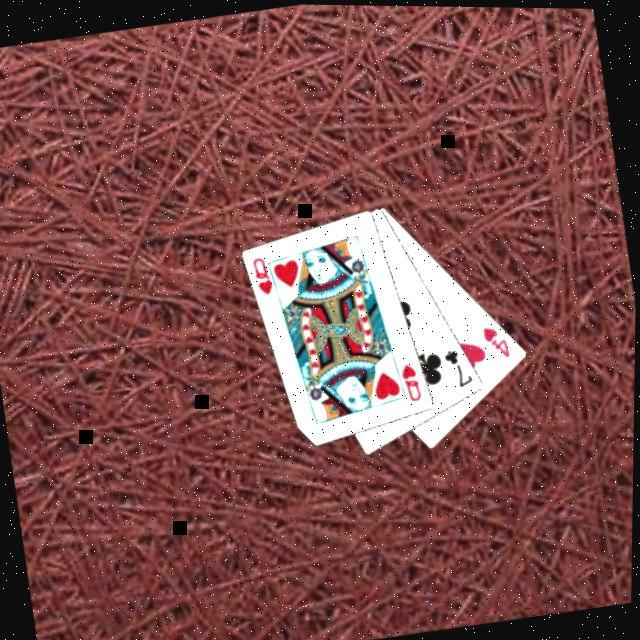4H: (479, 321, 515, 363)
7C: (441, 343, 479, 391)
QH: (248, 252, 284, 303), (397, 359, 427, 406)
